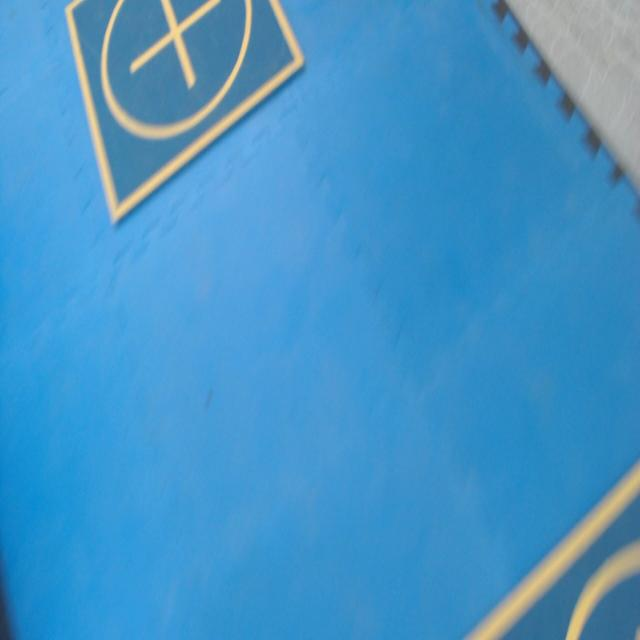base_pouso: (66, 0, 305, 226), (461, 462, 640, 639)
